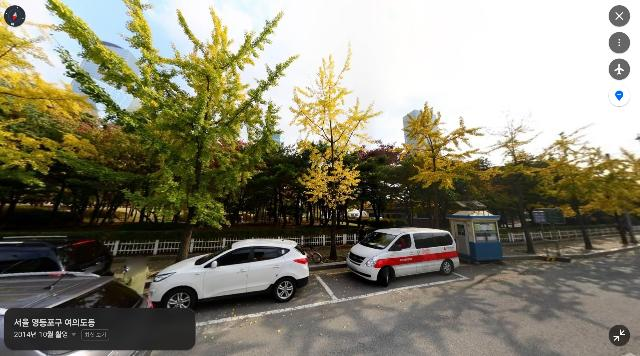ginkgo: (45, 0, 302, 263), (288, 39, 383, 262), (398, 100, 491, 231), (474, 109, 554, 255), (528, 120, 607, 251), (585, 146, 640, 246)
other: (0, 103, 116, 230), (223, 140, 322, 234)
